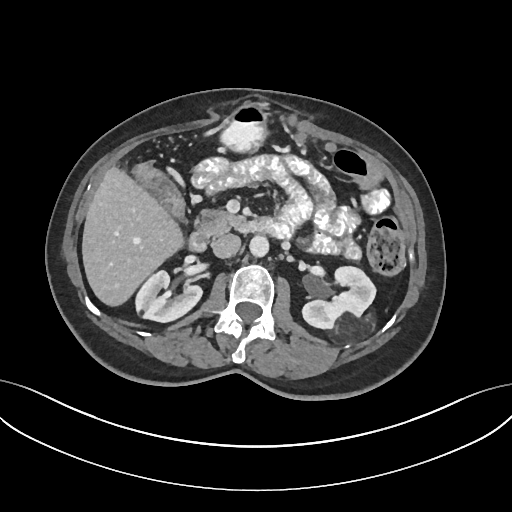Lesion: (329, 310, 375, 349)
